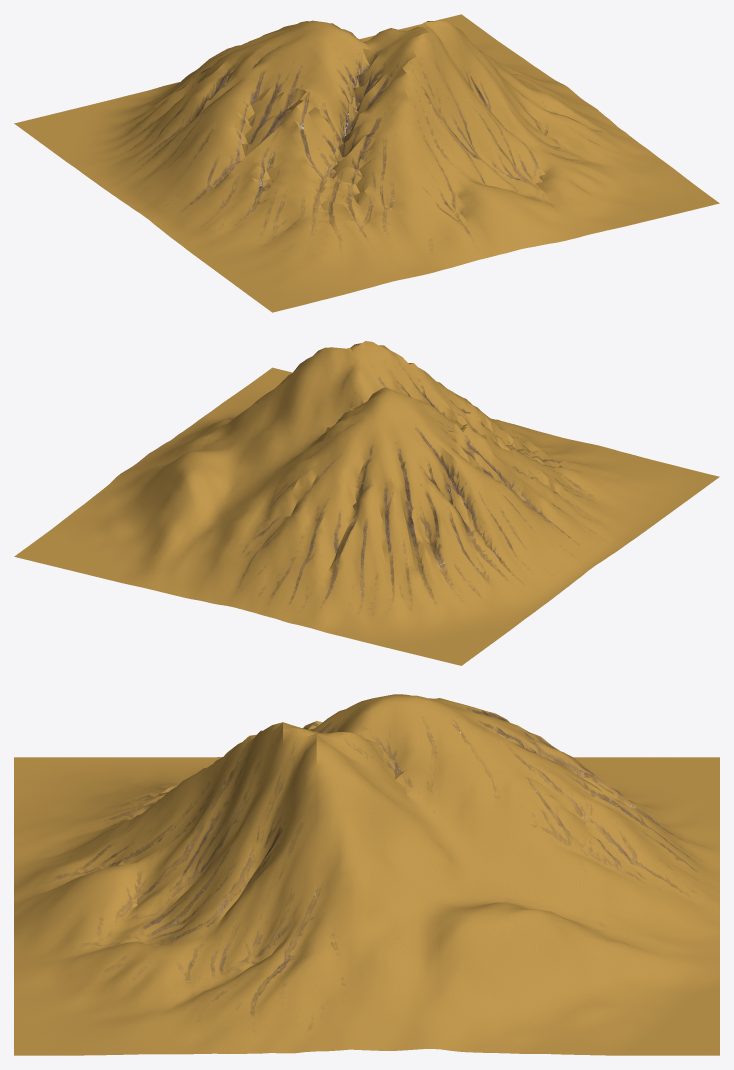
The model's file is grassland_hill.glb.
The picture shows the model from 3 angles, top to bottom: view 1: azimuth 30°, elevation 25°; view 2: azimuth 150°, elevation 25°; view 3: azimuth 270°, elevation 25°; orthographic projection. The views are drawn at different scales.
Visible parts, largest first — view 1: Object_2; view 2: Object_2; view 3: Object_2.
Boxes of the visible parts, left/top/right/bottom form: Object_2: left=14, top=14, right=719, bottom=312; Object_2: left=14, top=341, right=719, bottom=665; Object_2: left=14, top=694, right=719, bottom=1055.
Size of the model in its own units: 51.12 by 15.98 by 51.12.
1 material, 1 textured.
